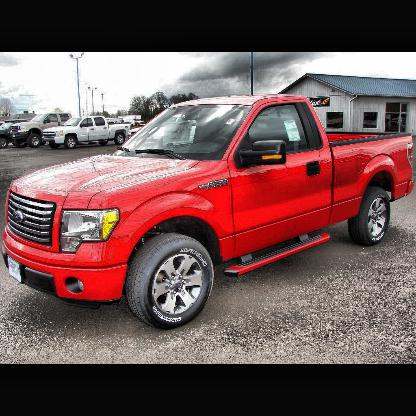Ford F-150 Regular Cab 2012: (4, 95, 415, 333)
